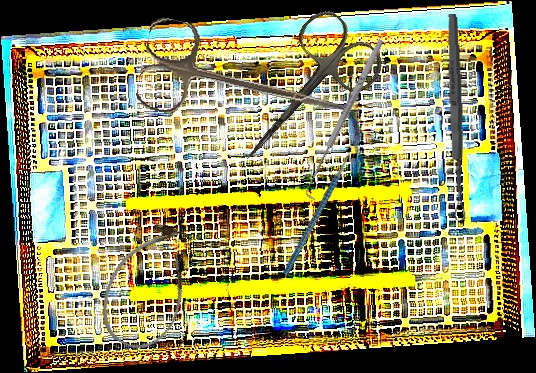Cannula: (87, 212, 211, 360)
Chopper: (245, 135, 391, 277)
Hook Surgical: (300, 37, 391, 201)
Iris Scissors: (211, 3, 392, 188), (133, 15, 360, 150)
Surgical Spoon: (445, 13, 467, 221)
